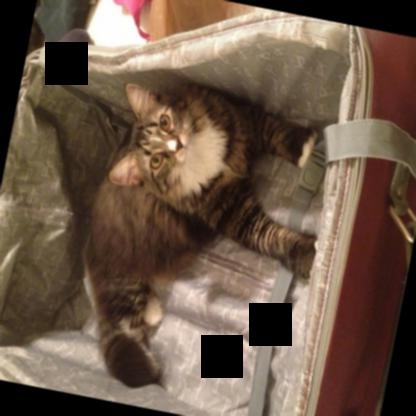suitcase: (0, 7, 416, 416)
